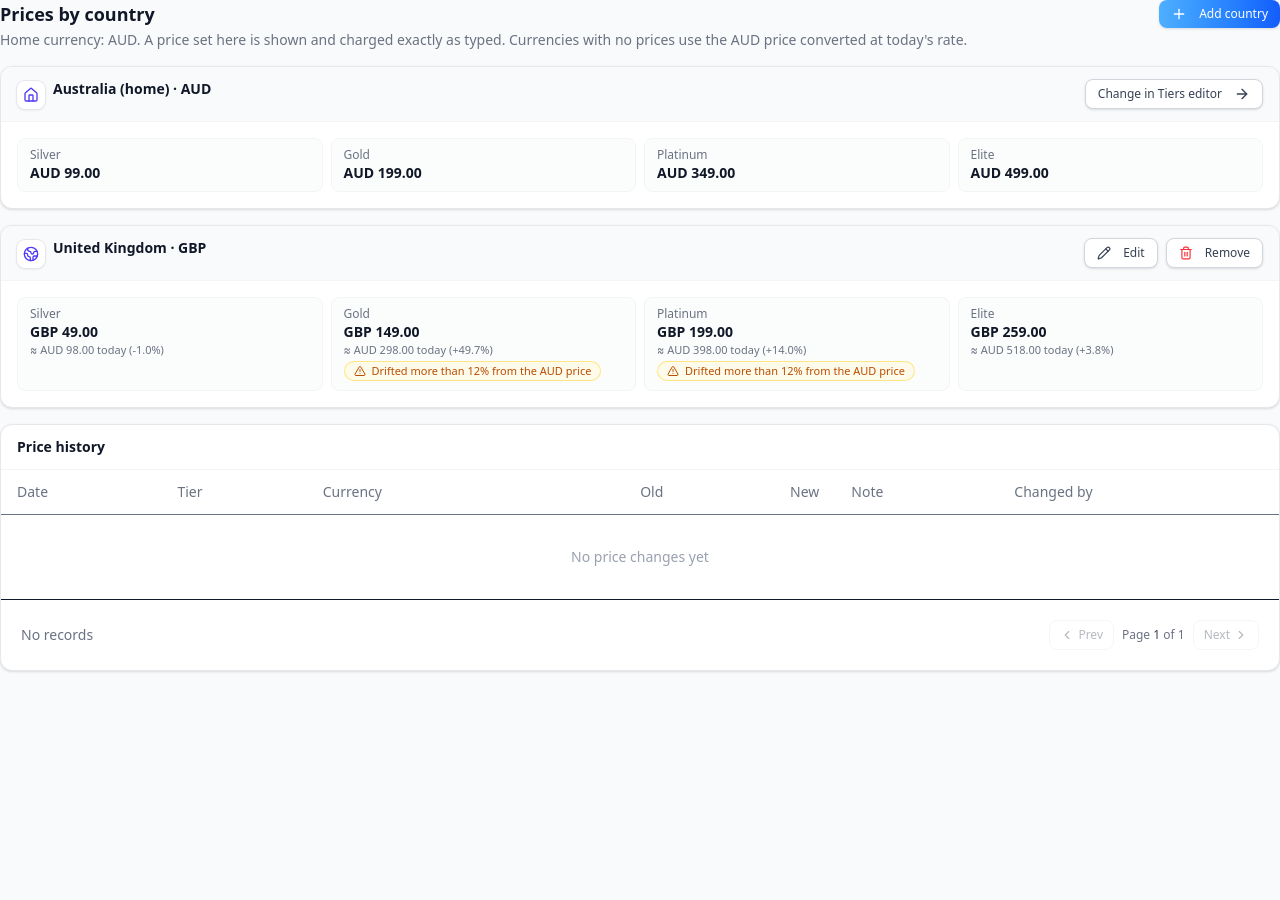
Test: Prices by country › Add country hides AUD and taken currencies; Germany picks EUR and warns about shared countries
Click the button "Add country".
click(1220, 14)  # box [1159,0,1279,28]
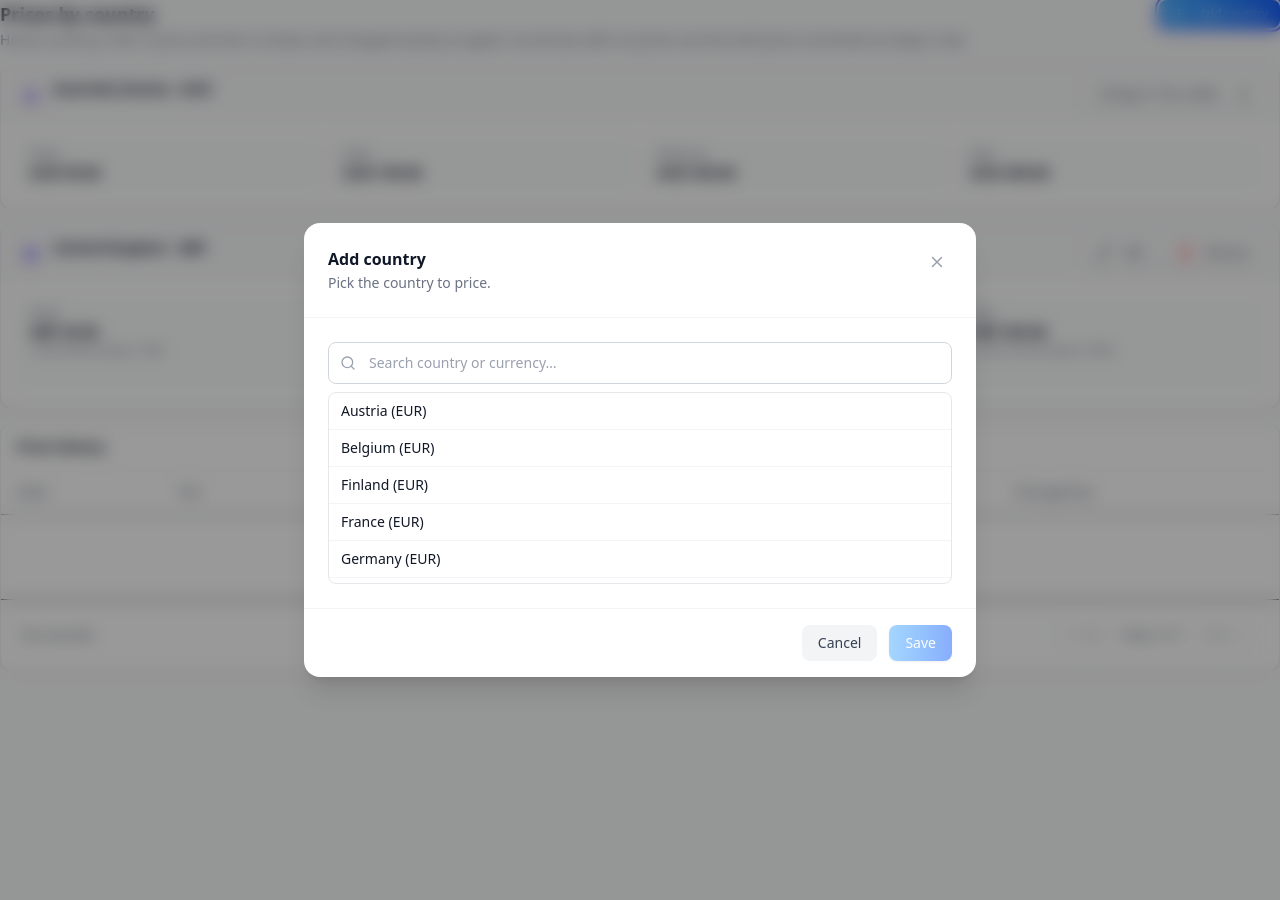
Check: the option "Germany (EUR)" is shown, box [329,541,951,578]
Type "germ" into the field named "Search countries".
click(640, 363); type("germ")  # box [328,342,952,384]
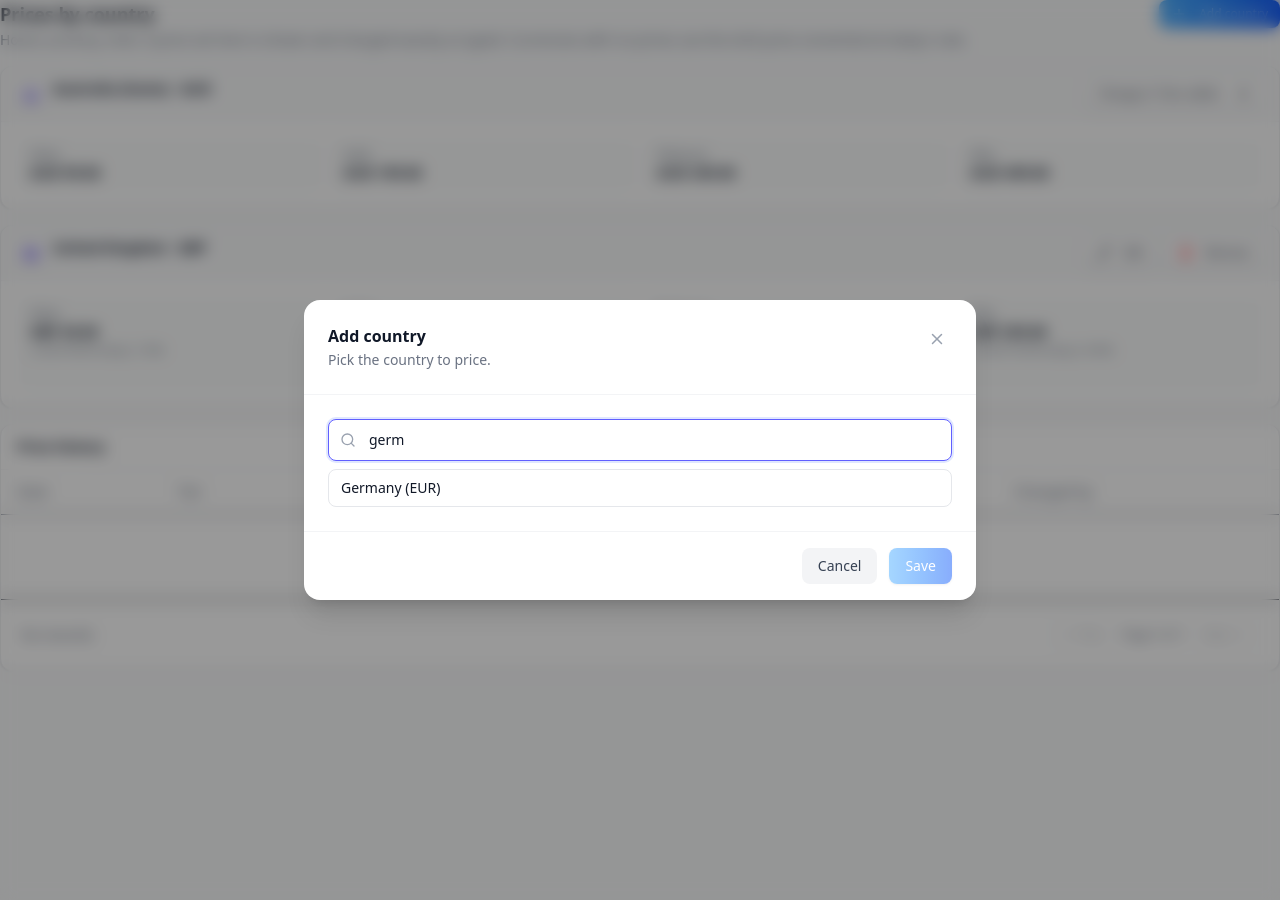
Check: the number of options is 1
Click the option "Germany (EUR)".
click(371, 488)  # box [329,470,951,506]
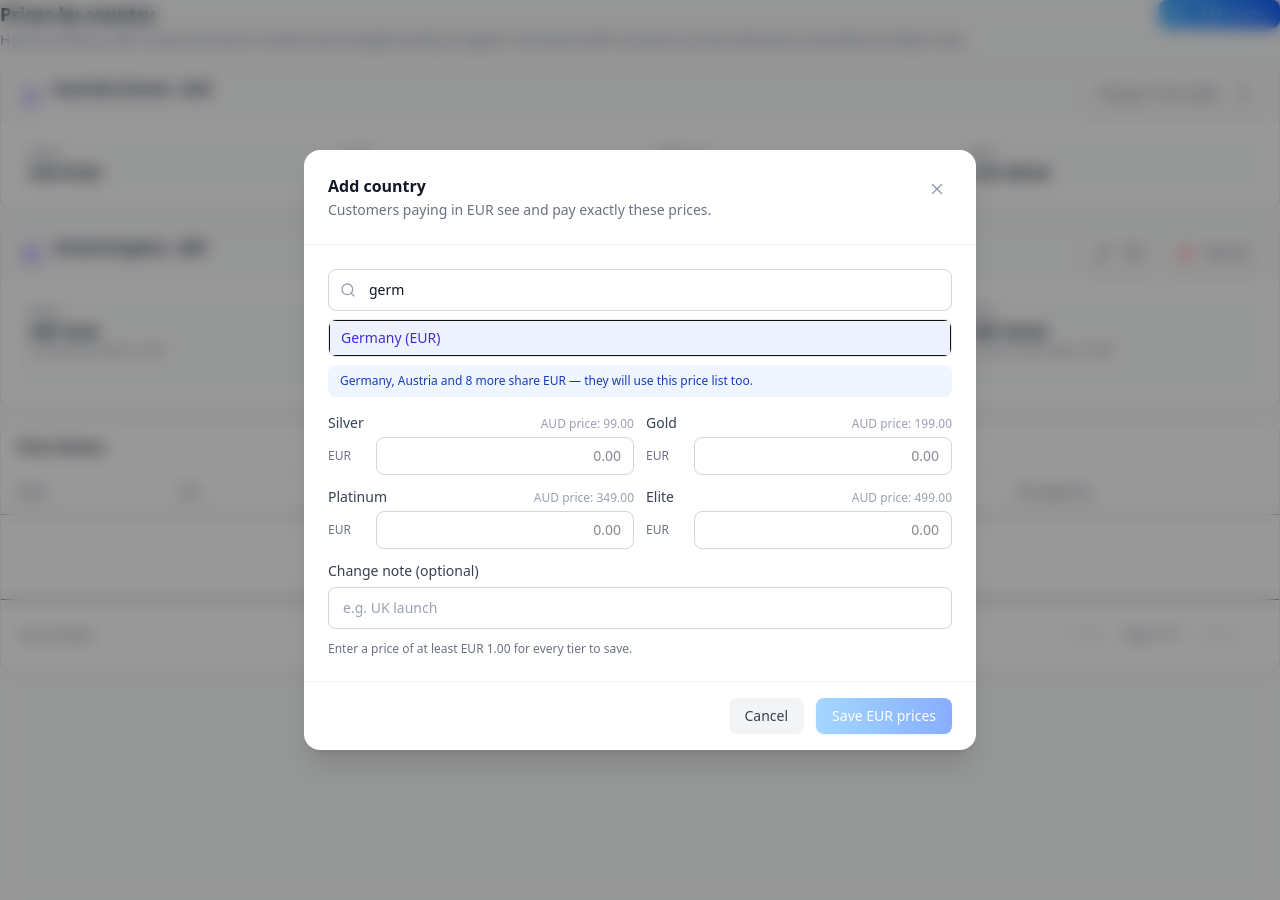
Check: the button "Save EUR prices" is disabled, box [816,698,952,734]
Check: the text "Germany, Austria and 8 more share EUR — they will use this price list too." is shown, box [328,365,952,397]
Check: the text "AUD price: 499.00" is shown, box [852,490,952,506]
